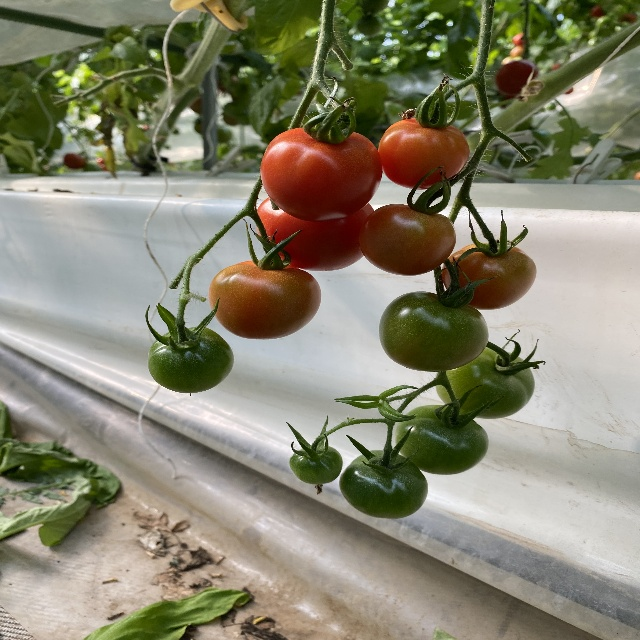l_fully_ripened: (260, 127, 383, 221), (256, 196, 375, 273)
l_green: (379, 292, 489, 373), (436, 347, 535, 419), (394, 404, 489, 475), (339, 450, 428, 519), (148, 326, 233, 393), (290, 445, 342, 484)
l_half_ripened: (209, 261, 322, 341), (358, 203, 457, 276), (378, 117, 470, 190), (442, 242, 537, 310)
